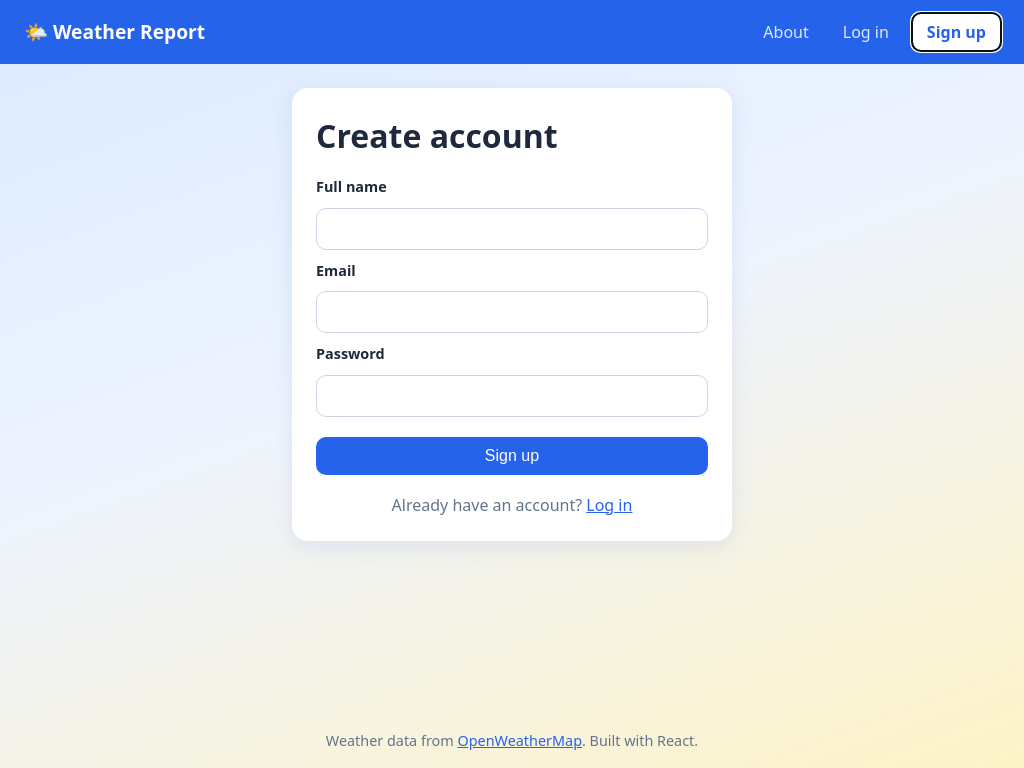
Test: Weather Report app › shows friendly errors for unknown city and network failure
Earlier steps of the test are not shown.
Type "Nivetha V" into the field labelled "Full name" at (512, 229), box top-left (316, 208), bottom-right (708, 250)
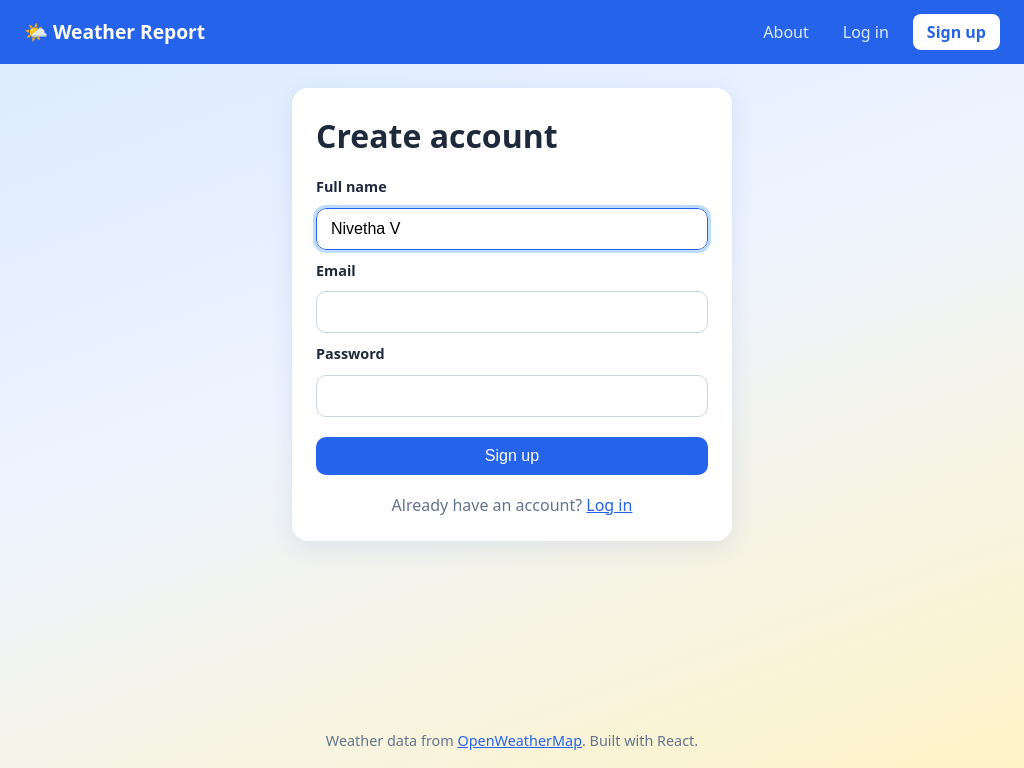
Type "nive@example.com" into the field labelled "Email" at (512, 312), box top-left (316, 291), bottom-right (708, 333)
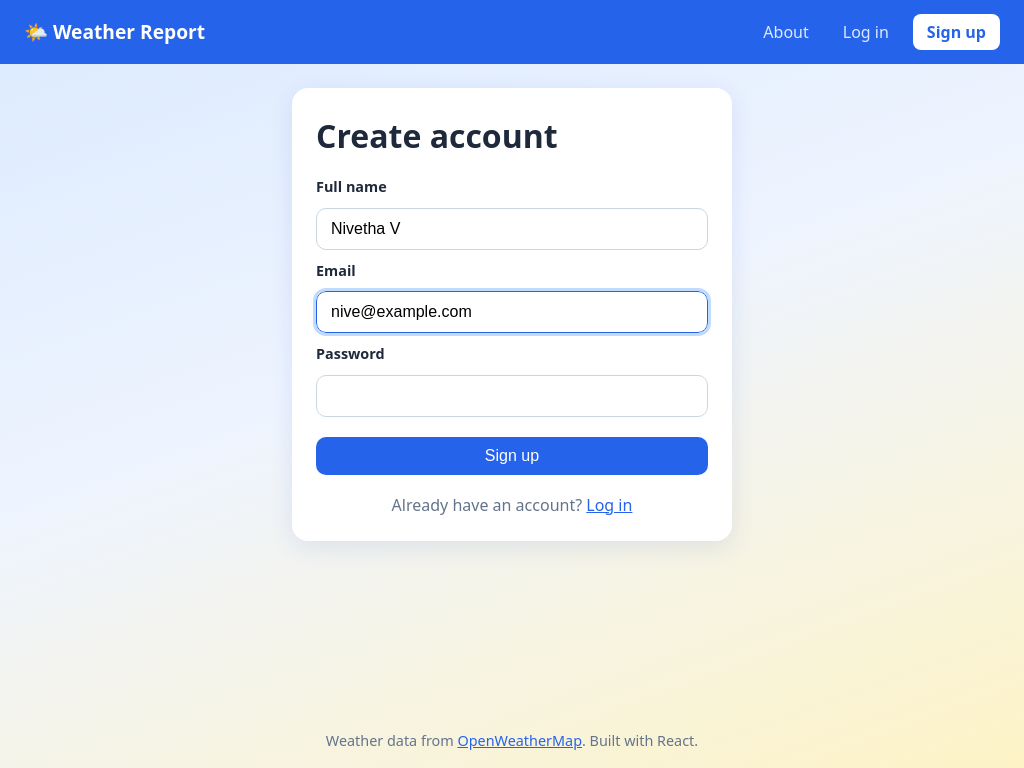
Type "secret123" into the password field labelled "Password" at (512, 396), box top-left (316, 375), bottom-right (708, 417)
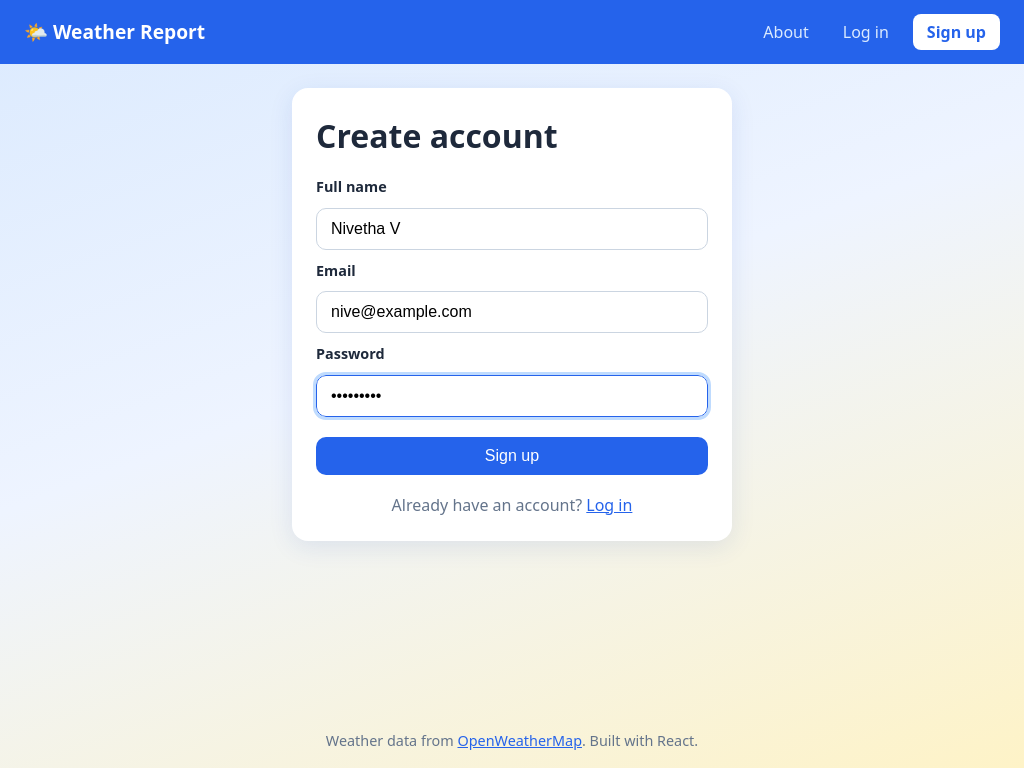
Click the button "Sign up" at (512, 456), box top-left (316, 437), bottom-right (708, 475)
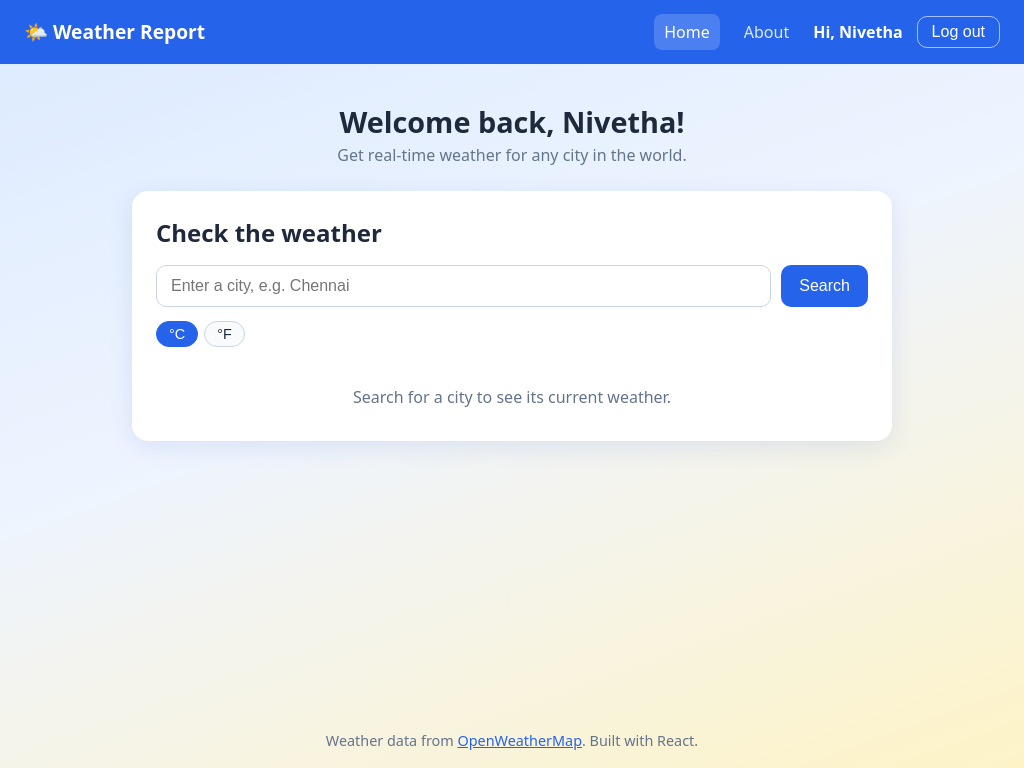
Type "Nowhereville" into the field named "city name" at (464, 286), box top-left (156, 265), bottom-right (771, 307)
Click the button "Search" at (825, 286), box top-left (781, 265), bottom-right (868, 307)
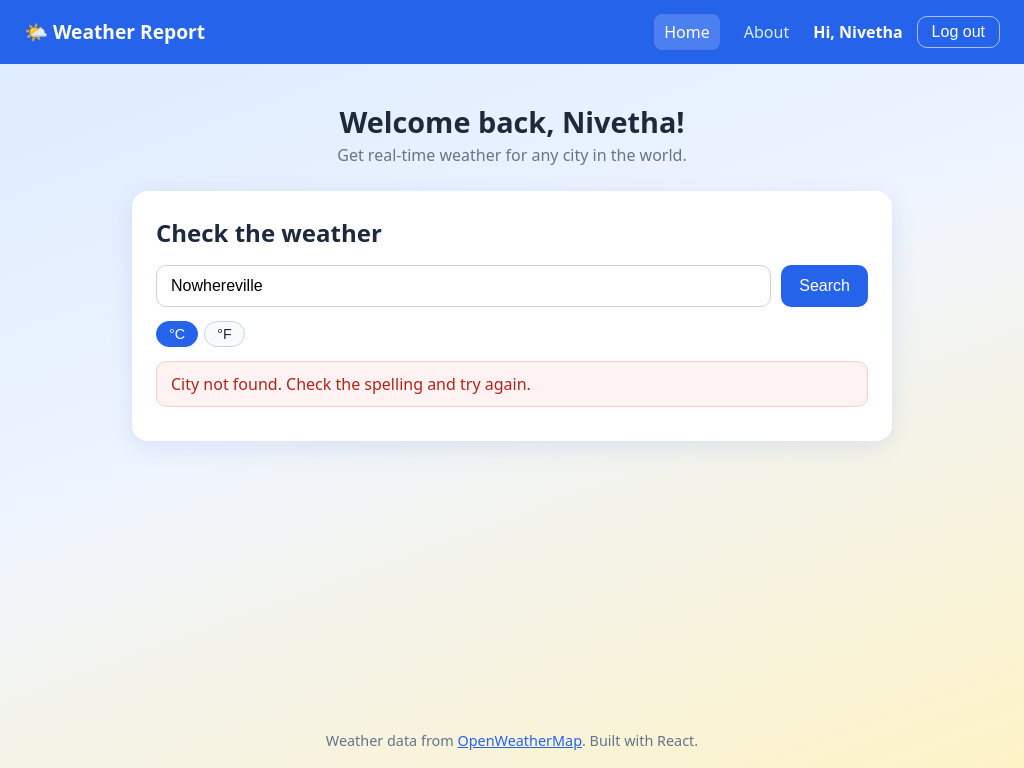
Expected: the text "City not found. Check the spelling and try again." is shown, top-left (156, 361), bottom-right (868, 407)
Click the button "Search" at (825, 286), box top-left (781, 265), bottom-right (868, 307)
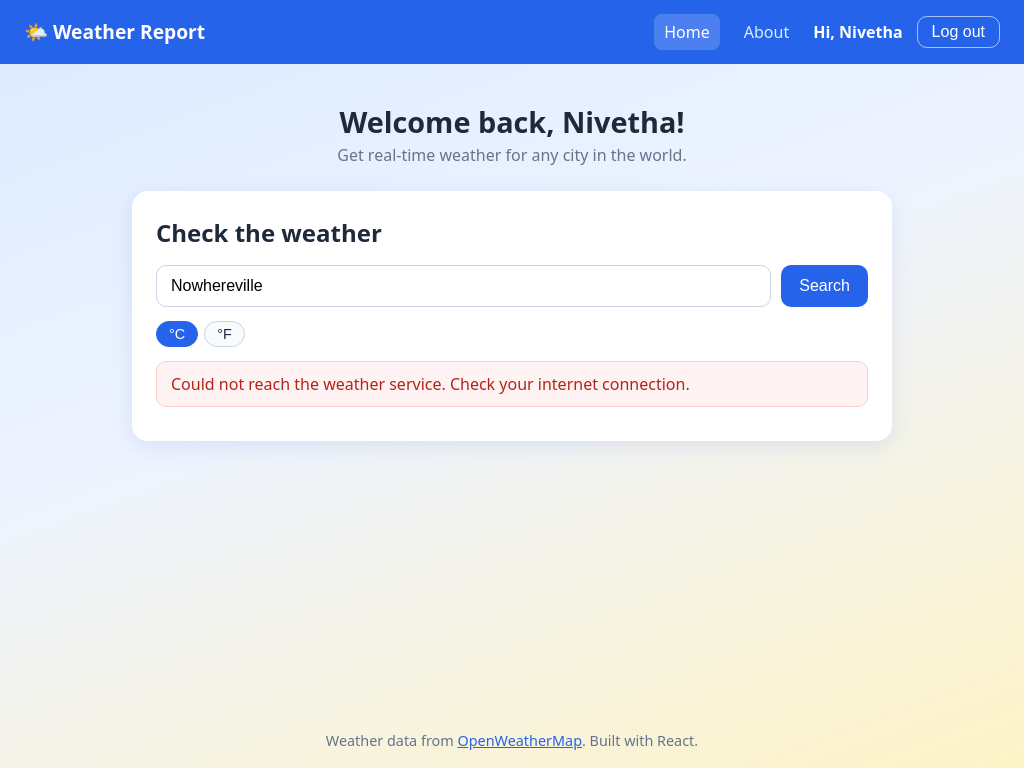
Expected: the text "Could not reach the weather service. Check your internet connection." is shown, top-left (156, 361), bottom-right (868, 407)
